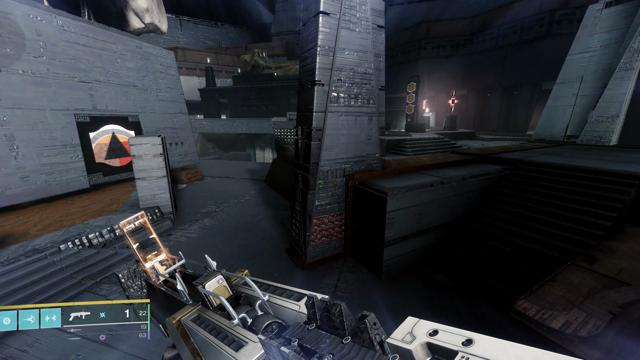pyramid: (89, 124, 135, 167)
